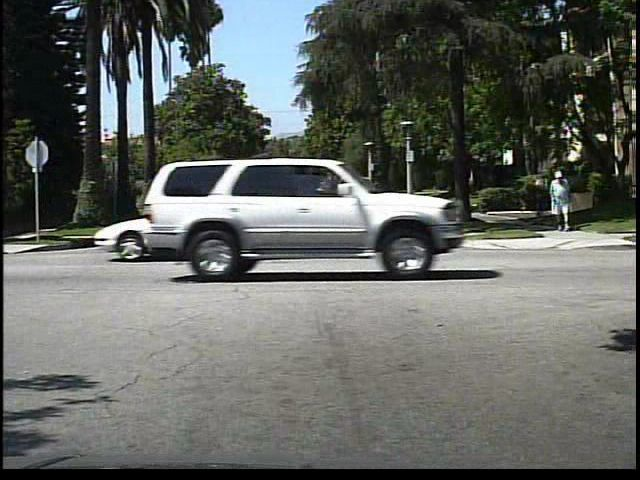person: (545, 167, 576, 235)
